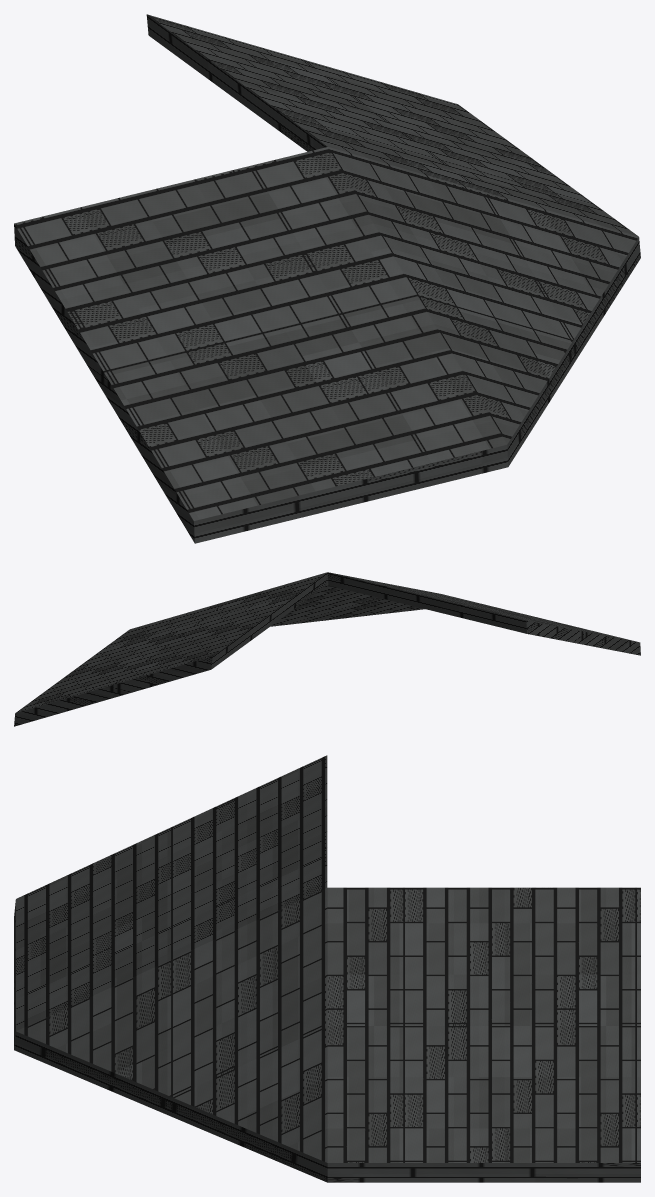
File: theodosian slate roof corner inverse.glb
3 renders of one model, top to bottom at view 1: azimuth 30°, elevation 25°; view 2: azimuth 150°, elevation 25°; view 3: azimuth 270°, elevation 25°, orthographic. The views are drawn at different scales.
Parts seen in each view (by area): view 1: Theodosian_slate_corner_inverse; view 2: Theodosian_slate_corner_inverse; view 3: Theodosian_slate_corner_inverse.
Part boxes in pixels (x1,y1,x2,y2): Theodosian_slate_corner_inverse: (14, 14, 640, 543); Theodosian_slate_corner_inverse: (14, 572, 640, 726); Theodosian_slate_corner_inverse: (14, 755, 640, 1182).
Bounding box in the file's own units: 2 × 0.5726 × 2.
Materials: 1 (1 with a texture image).
